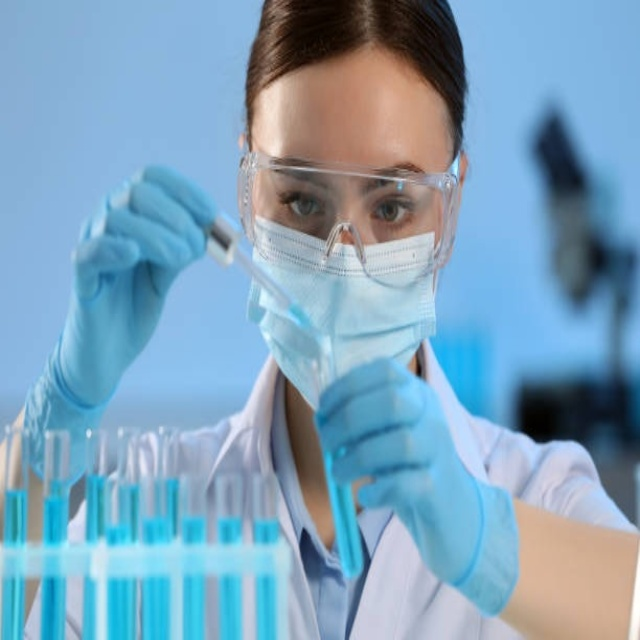Gafas: (237, 143, 460, 284)
Guantes: (18, 164, 219, 482), (316, 355, 515, 619)
Mascara: (248, 206, 442, 413)
